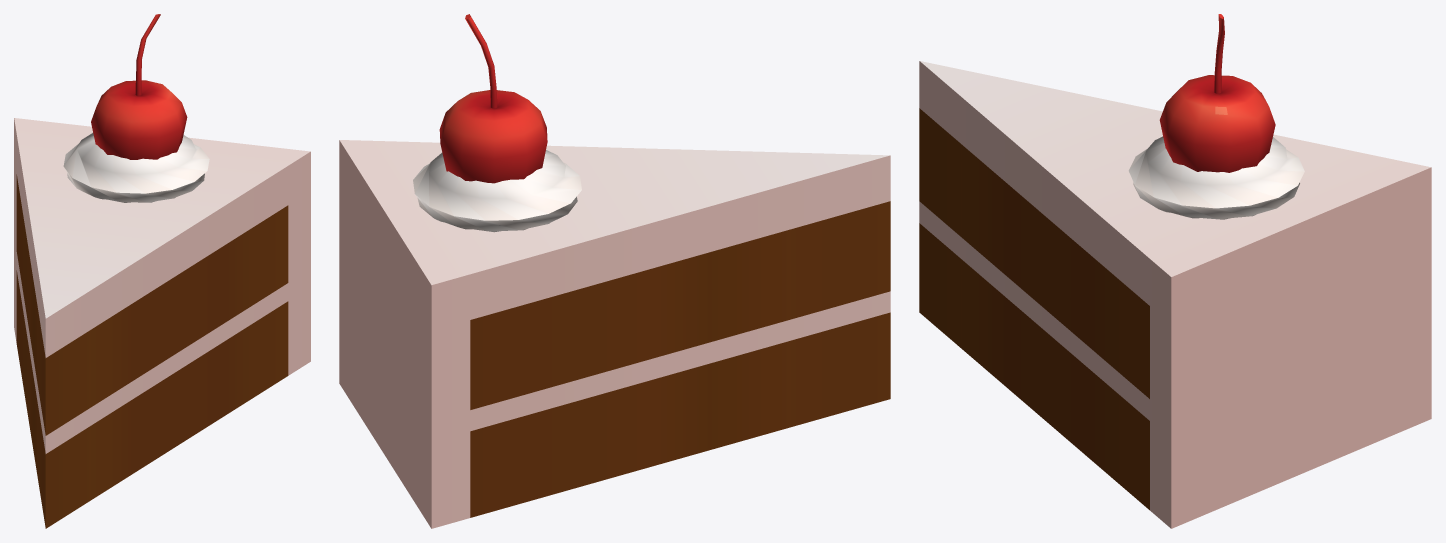
File: Doll_OB_Cake_004.fbx
The picture shows the model from 3 angles, left to right: view 1: azimuth 30°, elevation 25°; view 2: azimuth 150°, elevation 25°; view 3: azimuth 270°, elevation 25°; orthographic projection. The views are drawn at different scales.
Parts seen in each view (by area): view 1: Doll_OB_Cake_004; view 2: Doll_OB_Cake_004; view 3: Doll_OB_Cake_004.
Part boxes in pixels (bbox=[...]): Doll_OB_Cake_004: bbox=[14, 14, 310, 528]; Doll_OB_Cake_004: bbox=[339, 14, 890, 528]; Doll_OB_Cake_004: bbox=[919, 14, 1431, 528].
Size of the model in its own units: 1.04 by 0.984 by 1.04.
1 material, 1 textured.
